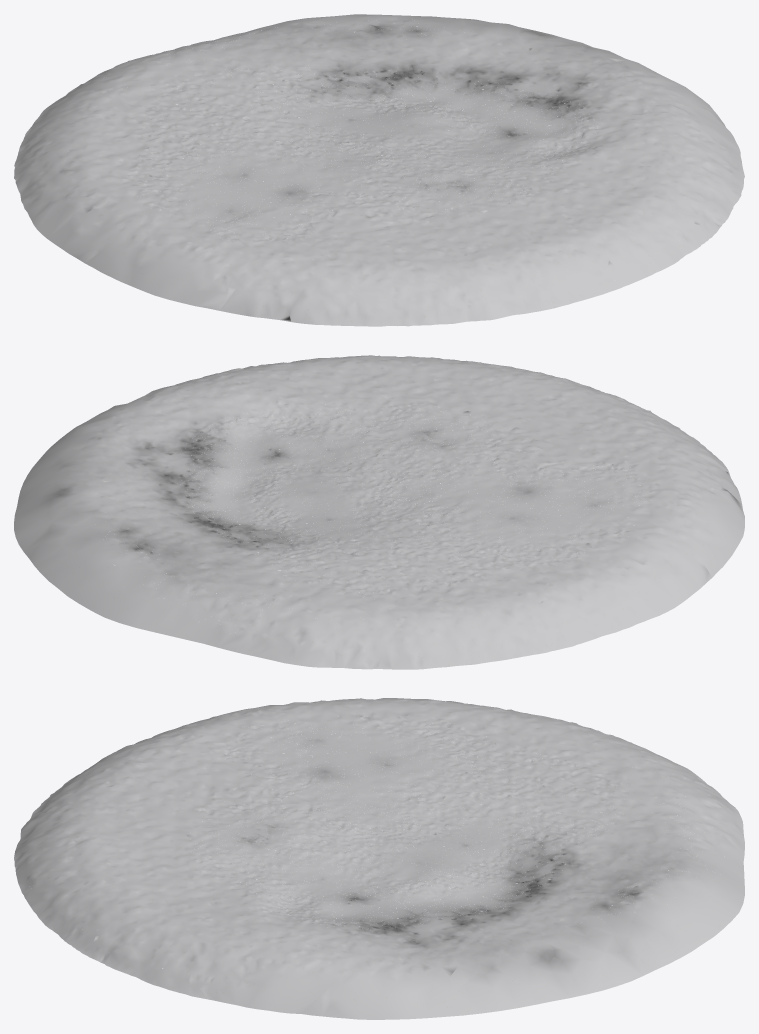
File: snow_ground.glb
3 views of the same model, one above another, from view 1: azimuth 30°, elevation 25°; view 2: azimuth 150°, elevation 25°; view 3: azimuth 270°, elevation 25° (orthographic).
Visible parts, largest first — view 1: Snow; view 2: Snow; view 3: Snow.
Boxes of the visible parts, x1,y1,x2,y2 form: Snow: (14,14,744,326); Snow: (14,355,744,669); Snow: (14,698,744,1019).
Bounding box in the file's own units: 90.13 × 4.5 × 88.25.
1 material, 1 textured.
